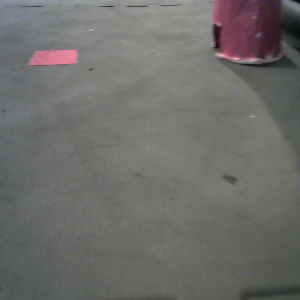Right: (210, 1, 288, 65)
